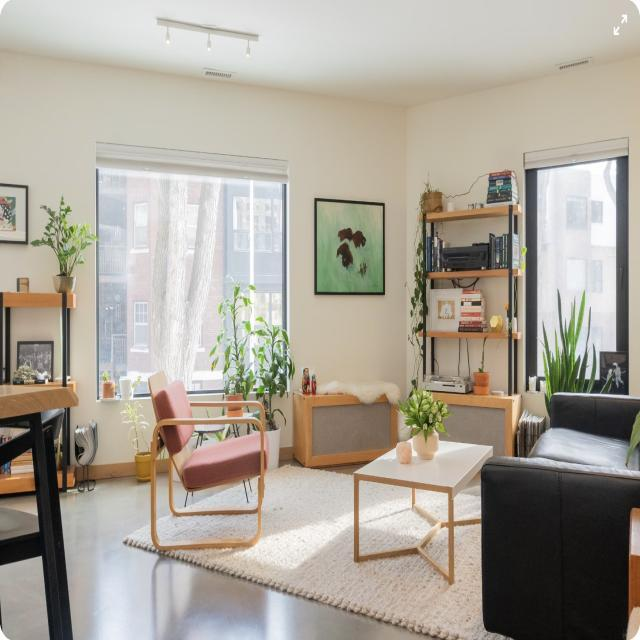book: (483, 168, 519, 185), (485, 188, 516, 202)
chair: (147, 368, 265, 560)
picture: (310, 190, 390, 302), (0, 174, 30, 248)
potted plant: (41, 190, 88, 299), (410, 385, 442, 458), (416, 179, 444, 216)
shelf: (412, 199, 520, 427)
table: (352, 422, 496, 596)
